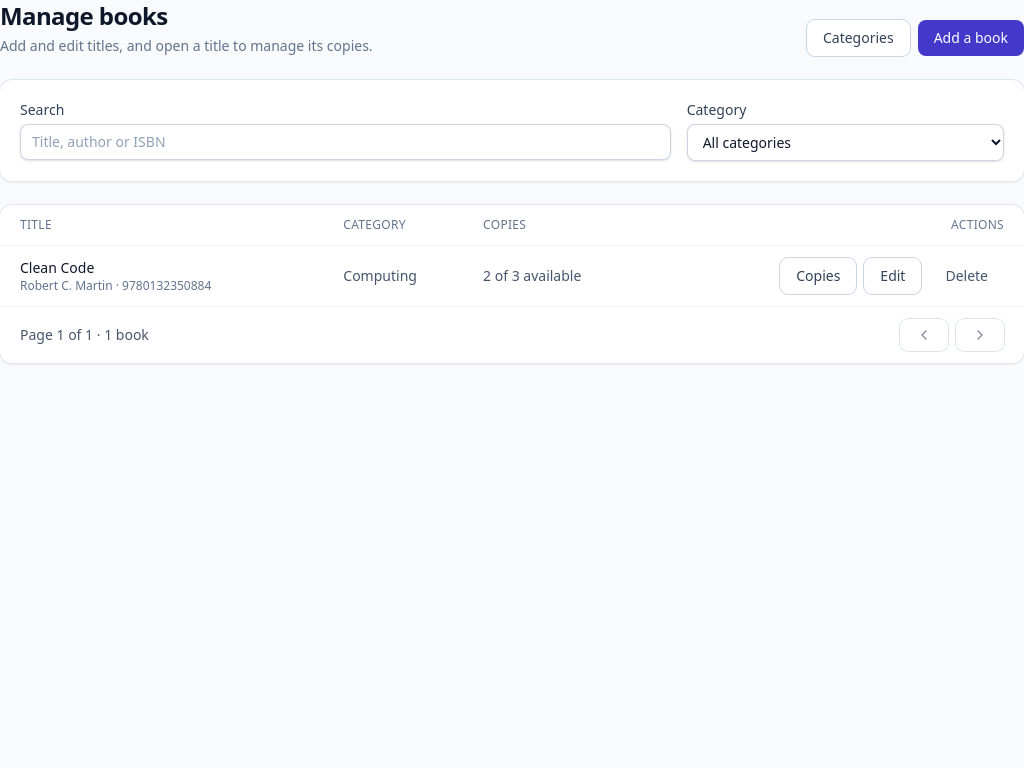
Scenario: ManageBooksPage › explains why a book with copies cannot be deleted
This screenshot has width=1024, height=768.
Check: the link "Clean Code" is shown, box top-left (20, 258), bottom-right (94, 277)
Click the button with aria-label "Delete Clean Code" at (967,276), box top-left (929, 258), bottom-right (1004, 294)
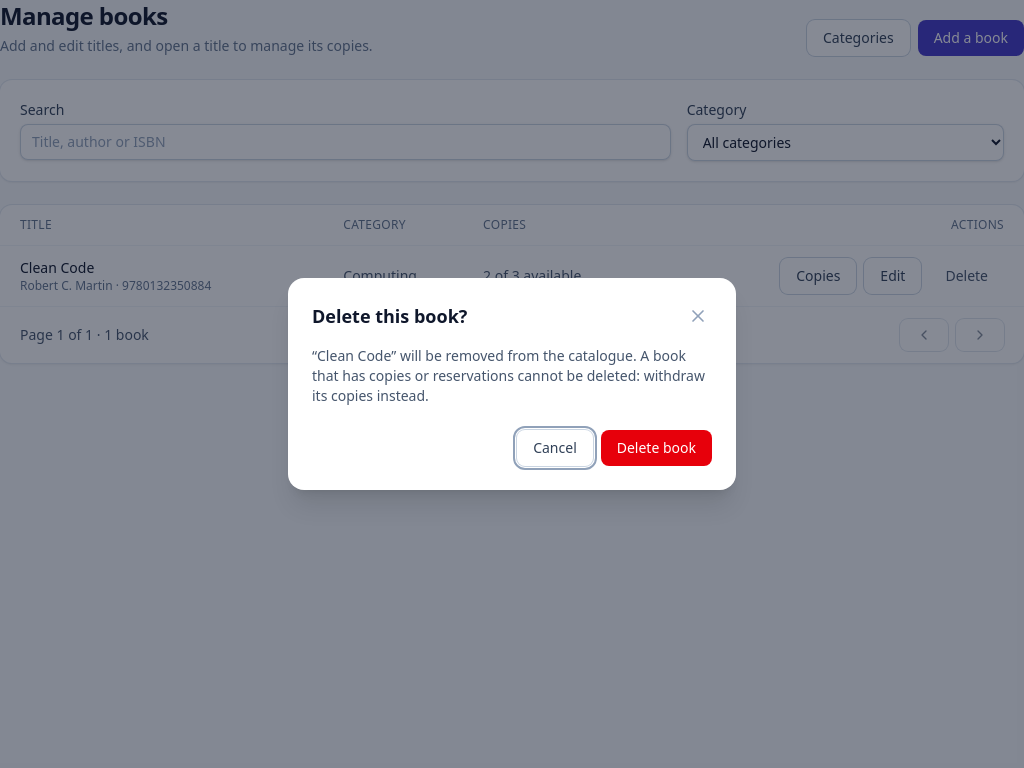
Click the button "Delete book" at (656,448), box top-left (601, 430), bottom-right (712, 466)
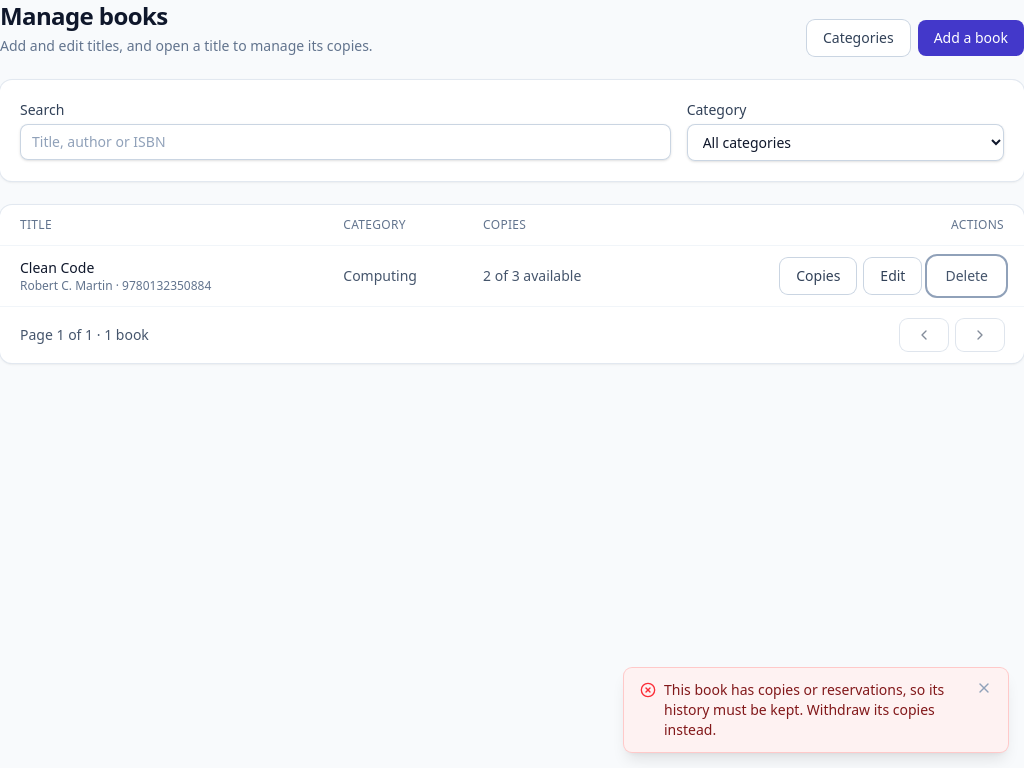
Check: the text "Withdraw its copies instead" is shown, box top-left (664, 680), bottom-right (944, 739)
